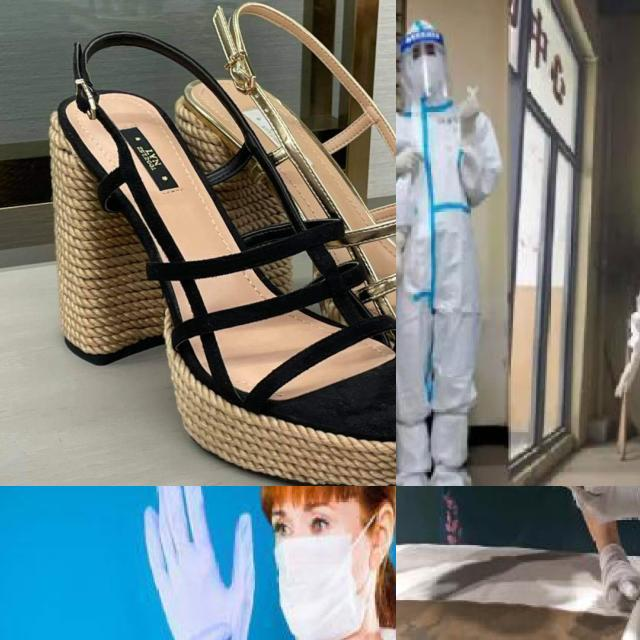Sandals: (28, 17, 396, 486), (169, 0, 396, 417)
face_mask: (272, 498, 366, 640)
face_nomask: (408, 45, 442, 88)
hand_glove: (144, 486, 258, 640), (558, 486, 640, 523), (599, 566, 640, 614), (458, 85, 485, 139), (612, 354, 638, 399), (396, 143, 424, 178), (396, 243, 405, 294)
person: (396, 11, 525, 486), (113, 486, 396, 640), (396, 486, 592, 582)
